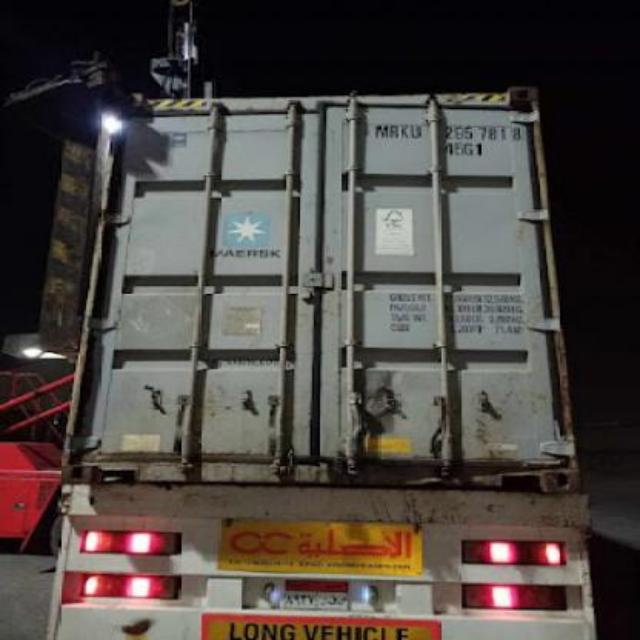1: (498, 122, 508, 142)
2: (441, 120, 454, 142)
5: (462, 123, 474, 139)
7: (476, 121, 488, 141)
8: (512, 122, 524, 144), (486, 122, 496, 144)
9: (452, 123, 464, 141)
K: (398, 117, 410, 143)
M: (374, 121, 390, 141)
R: (390, 121, 398, 142)
U: (408, 121, 422, 141)
